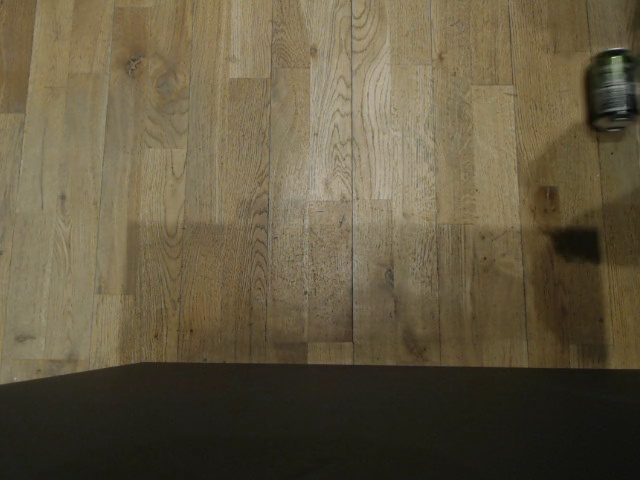beer: (578, 39, 640, 141)
